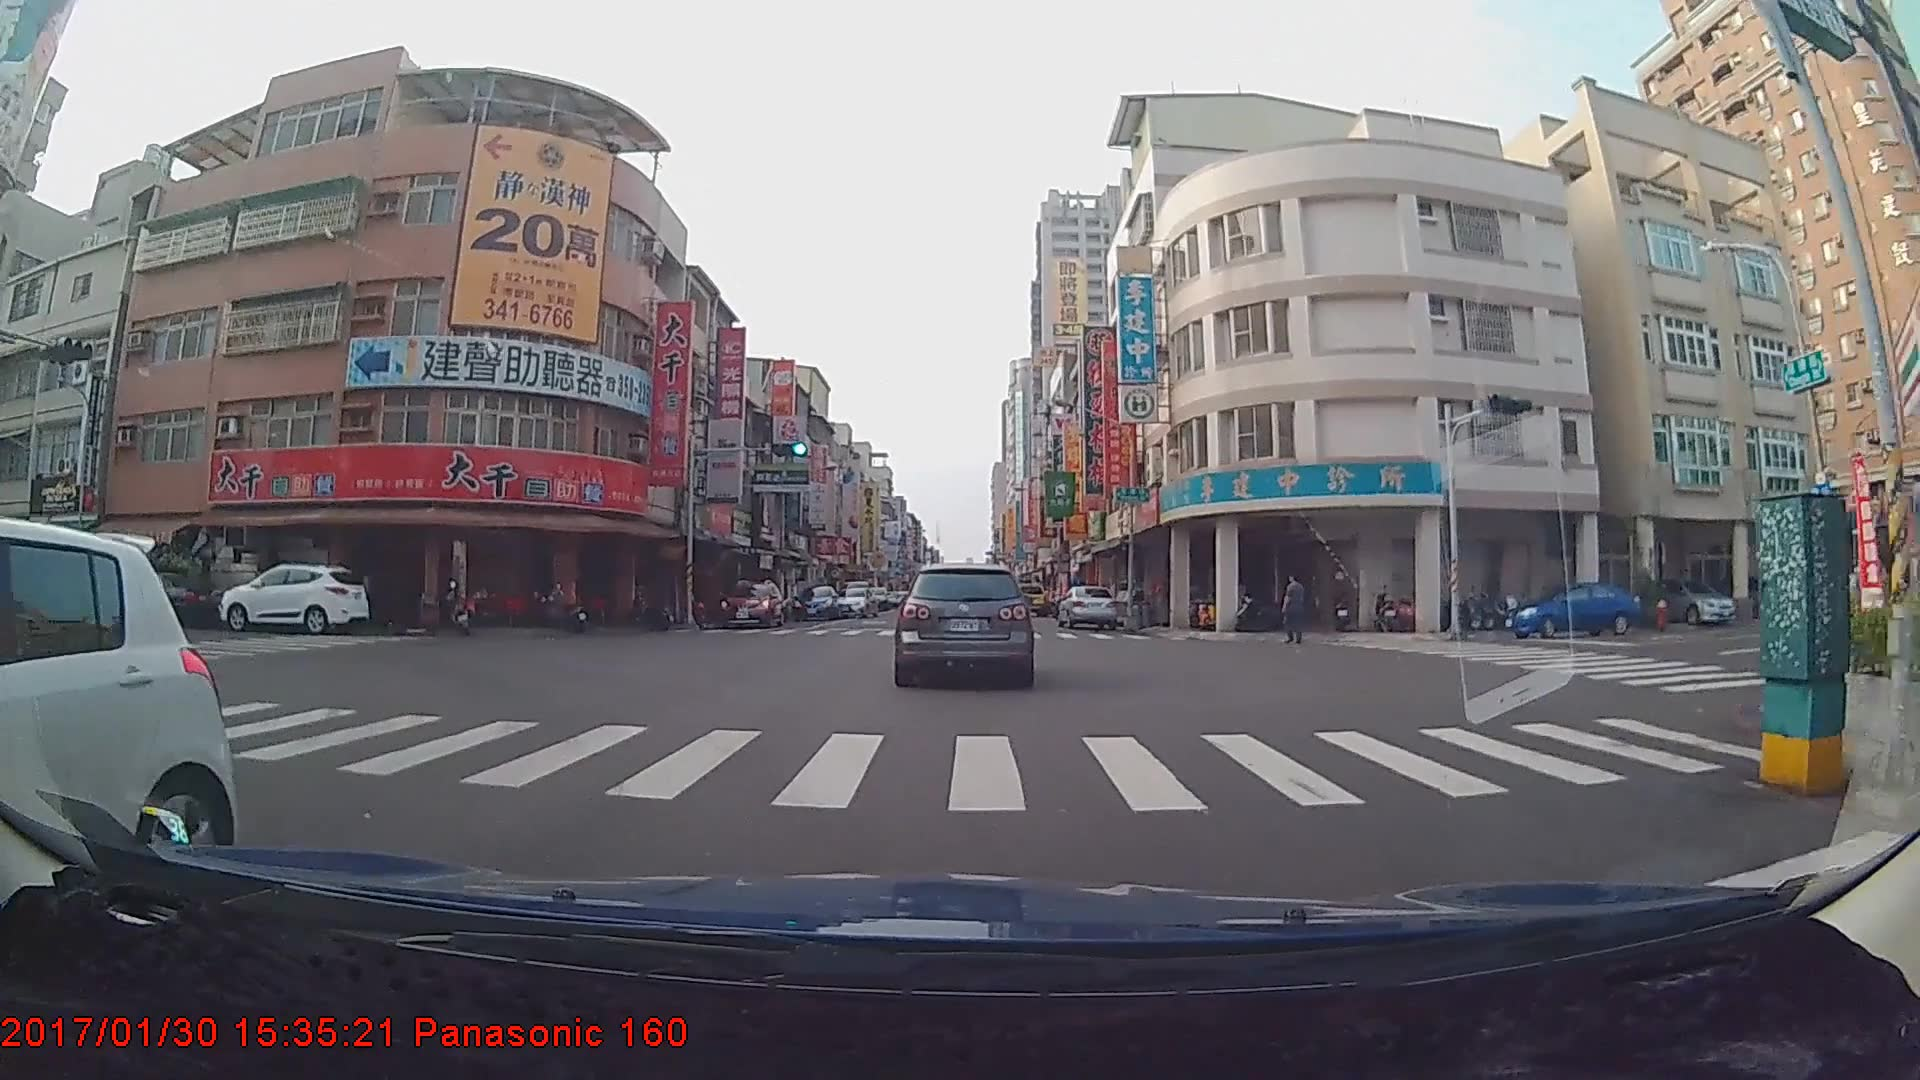pedestrian: (1282, 574, 1310, 649)
vehicle: (0, 510, 235, 929), (894, 560, 1034, 687), (215, 562, 370, 636), (1504, 582, 1637, 641), (102, 569, 220, 629), (1632, 571, 1733, 627), (720, 577, 784, 629), (1053, 582, 1118, 628), (792, 583, 842, 620), (831, 587, 879, 616), (1010, 581, 1047, 615)
